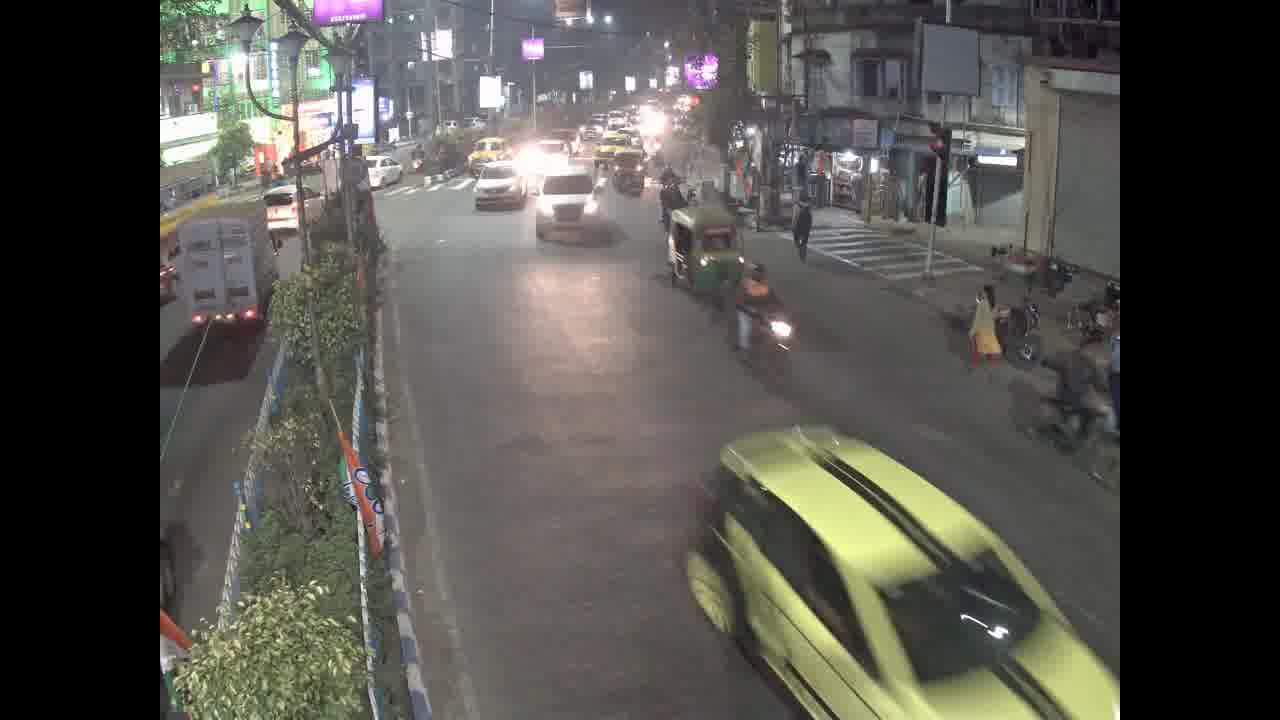auto-rickshaw: (672, 212, 734, 301), (614, 150, 644, 195)
bike: (716, 311, 823, 378)
car: (697, 437, 1110, 720), (533, 173, 609, 241), (467, 160, 526, 209), (265, 187, 326, 222), (458, 130, 514, 164), (363, 151, 400, 190)
person: (733, 254, 786, 341), (963, 275, 1001, 375), (778, 192, 826, 259)
